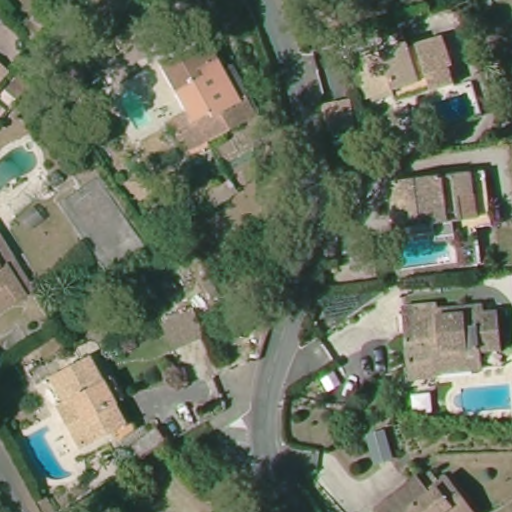pool: (397, 87, 485, 130), (23, 417, 78, 482), (390, 232, 460, 275), (1, 140, 43, 199), (444, 378, 512, 412), (119, 90, 157, 136)
